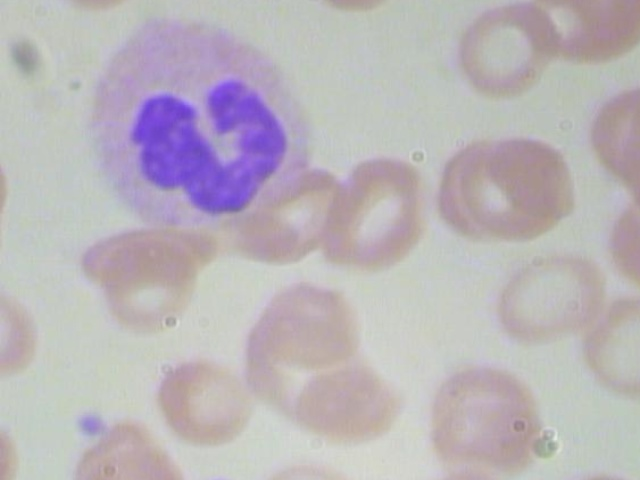Platelets: (59, 408, 113, 441)
RBC: (235, 167, 353, 285), (249, 258, 367, 376), (316, 153, 434, 270), (84, 221, 202, 338), (433, 0, 563, 100), (280, 353, 400, 458), (144, 350, 261, 448), (428, 357, 545, 455), (490, 249, 606, 347), (479, 120, 580, 232), (0, 265, 46, 382), (0, 120, 20, 236)
WBC: (75, 9, 331, 229)
